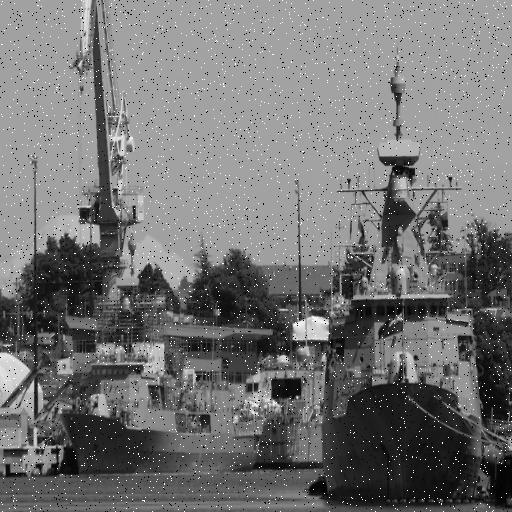Fragata: (319, 20, 483, 504)
